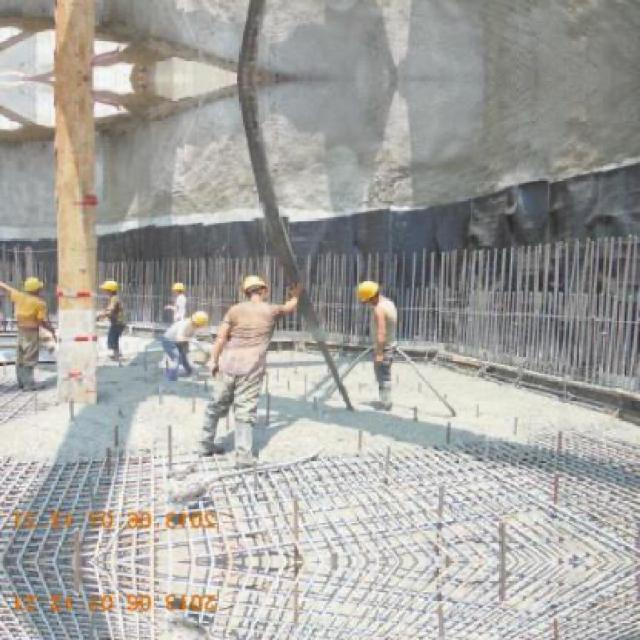helmet: (354, 276, 386, 306), (240, 272, 271, 302), (20, 274, 48, 297), (186, 306, 209, 328), (100, 276, 122, 298), (171, 282, 189, 298)
